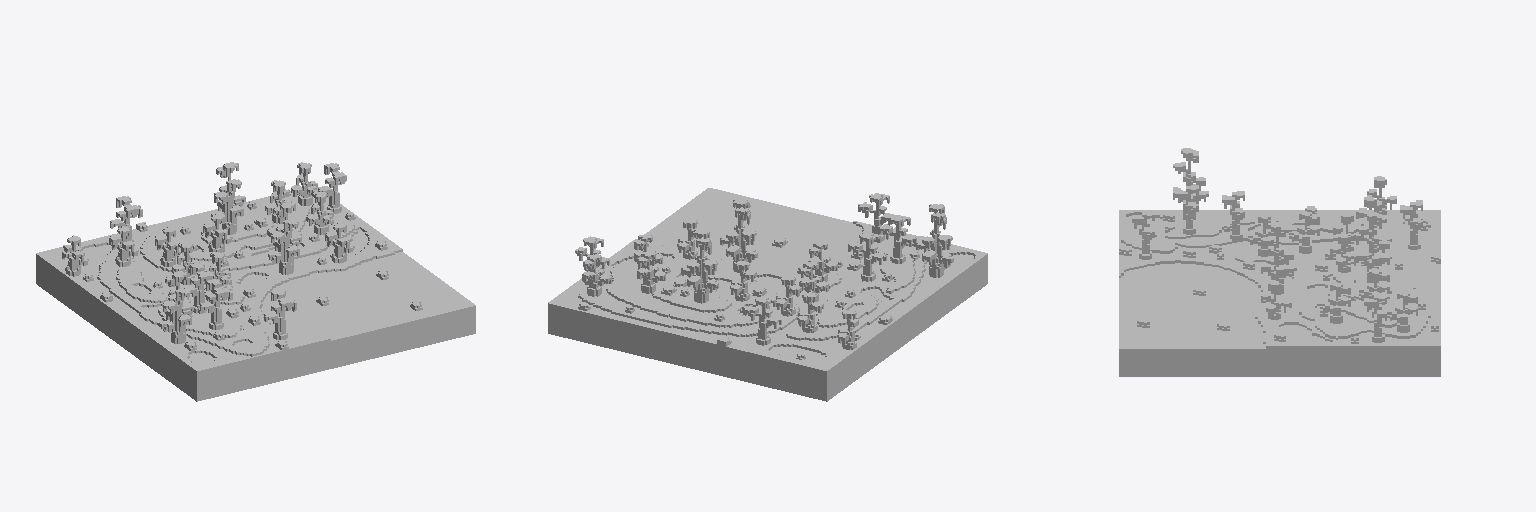
The model's file is Map (18).obj.
3 renders of one model, left to right at view 1: azimuth 30°, elevation 25°; view 2: azimuth 150°, elevation 25°; view 3: azimuth 270°, elevation 25°, orthographic.
Parts seen in each view (by area): view 1: ALL MAP!!!!!!!!!!!-15; view 2: ALL MAP!!!!!!!!!!!-15; view 3: ALL MAP!!!!!!!!!!!-15.
Boxes of the visible parts, x1=… form: ALL MAP!!!!!!!!!!!-15: x1=36, y1=162, x2=475, y2=401; ALL MAP!!!!!!!!!!!-15: x1=548, y1=188, x2=987, y2=401; ALL MAP!!!!!!!!!!!-15: x1=1119, y1=148, x2=1440, y2=376.
Size of the model in its own units: 125 by 45 by 125.